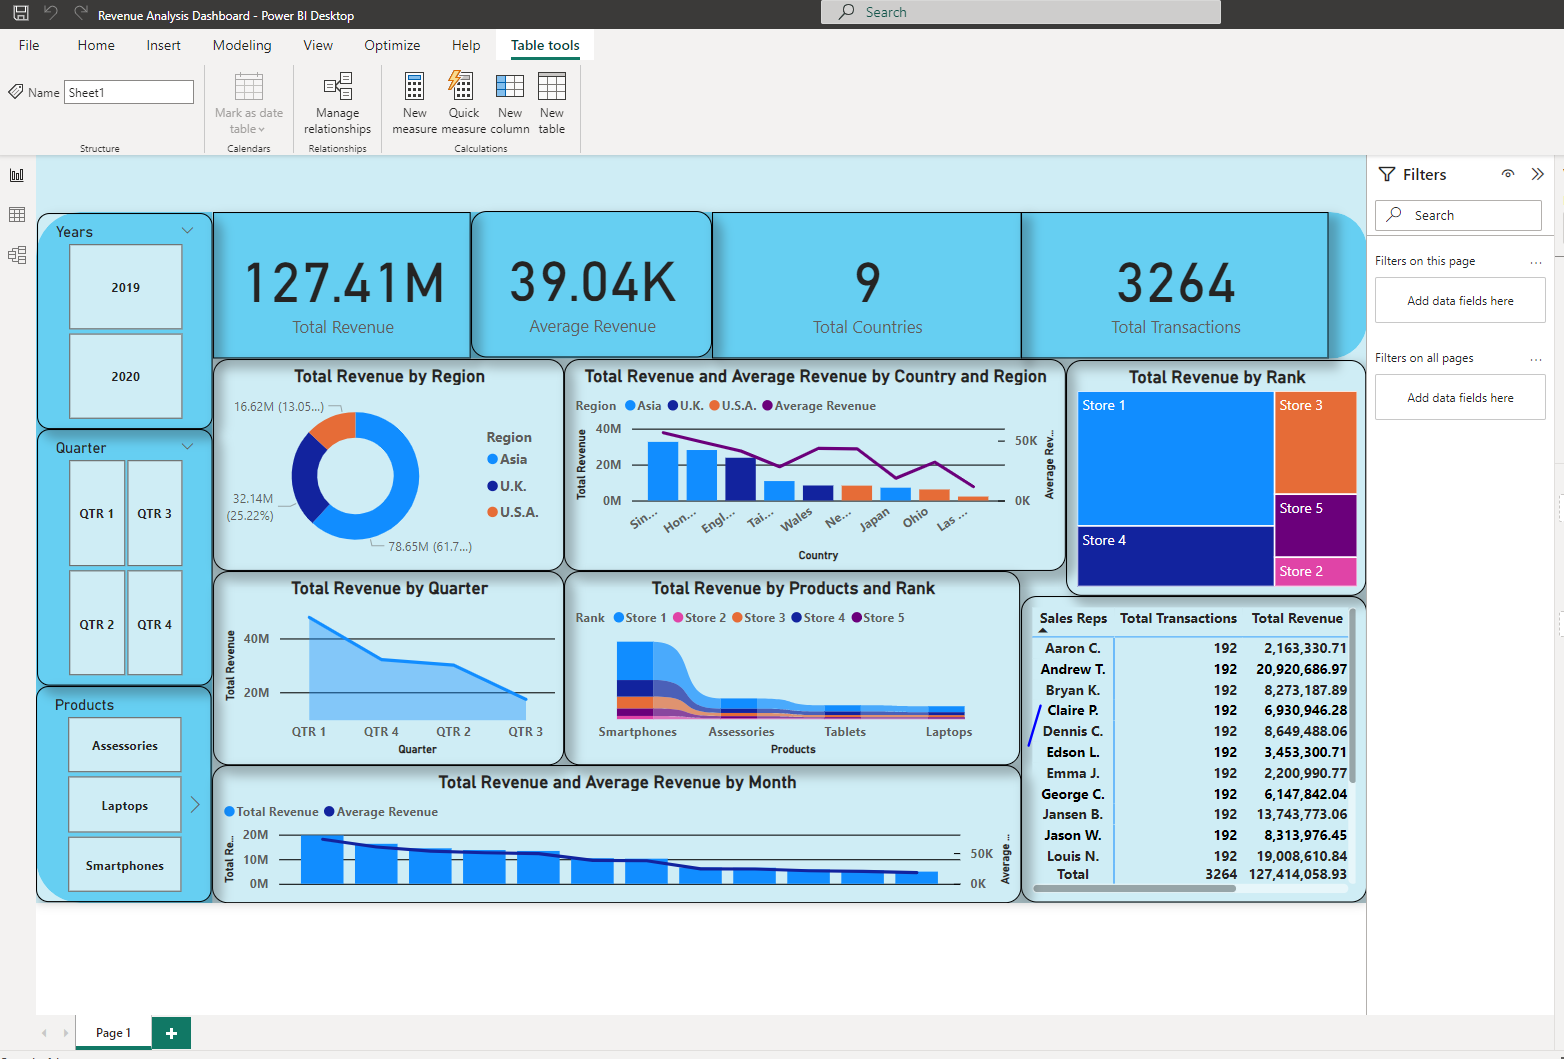

Layout of this report page (visuals, bound fields, positions):
{"tool":"powerbi","page":{"name":"Page 1","canvas":[1280,720],"ordinal":0},"visuals":[{"type":"shape","box":[0,54.8,170,665],"z":0},{"type":"shape","box":[170,54.8,1110.5,141.2],"z":1000},{"type":"card","fields":{"Values":["Measures (2).Total Revenue"]},"box":[170.2,54.9,248.4,141.4],"z":2000},{"type":"card","fields":{"Values":["Measures (2).Average Revenue"]},"box":[418.6,53.5,232,141.4],"z":3000},{"type":"card","fields":{"Values":["Measures (2).Total Countries"]},"box":[650.6,54.9,297.8,141.4],"z":4000},{"type":"card","fields":{"Values":["Measures (2).Total Transactions"]},"box":[948.4,54.9,296.5,141.4],"z":5000},{"type":"lineStackedColumnComboChart","fields":{"Category":["Sheet1.Country"],"Y":["Measures (2).Total Revenue"],"Y2":["Measures (2).Average Revenue"],"Series":["Sheet1.Region"]},"box":[508.4,196.1,482.7,204.2],"z":6000},{"type":"donutChart","fields":{"Y":["Measures (2).Total Revenue"],"Category":["Sheet1.Region"]},"box":[170.4,196.1,338.1,204.2],"z":7000},{"type":"treemap","fields":{"Values":["Measures (2).Total Revenue"],"Group":["Sheet1.Rank"]},"box":[991.2,197.4,289.4,227.2],"z":8000},{"type":"areaChart","fields":{"Y":["Measures (2).Total Revenue"],"Category":["Sheet1.Quarter"]},"box":[170.4,400.3,338.1,186.6],"z":9000},{"type":"ribbonChart","fields":{"Category":["Sheet1.Products"],"Y":["Measures (2).Total Revenue"],"Series":["Sheet1.Rank"]},"box":[508.4,400.3,439.5,186.6],"z":10000},{"type":"pivotTable","fields":{"Rows":["Sheet1.Sales Reps"],"Values":["Measures (2).Total Transactions","Measures (2).Total Revenue","Measures (2).Average Revenue"]},"box":[947.9,424.6,332.6,294.8],"z":11000},{"type":"lineStackedColumnComboChart","fields":{"Category":["Sheet1.Month"],"Y":["Measures (2).Total Revenue"],"Y2":["Measures (2).Average Revenue"]},"box":[169,586.9,778.9,132.5],"z":12000},{"type":"slicer","fields":{"Values":["Sheet1.Years"]},"box":[1.4,55.4,169,208.2],"z":13000},{"type":"slicer","fields":{"Values":["Sheet1.Quarter"]},"box":[1.4,263.7,169,247.5],"z":14000},{"type":"slicer","fields":{"Values":["Sheet1.Products"]},"box":[0,511.1,169,208.2],"z":15000}]}

Visuals, with their boxes on the page's 1280x720 design canvas (x1, y1, x2, y2). These are canvas units, not pixel positions in the 1564x1059 screenshot, which may show the page scaled, cropped or inside an application window:
shape: (x1=0, y1=55, x2=170, y2=720)
shape: (x1=170, y1=55, x2=1280, y2=196)
card - Measures (2).Total Revenue: (x1=170, y1=55, x2=419, y2=196)
card - Measures (2).Average Revenue: (x1=419, y1=54, x2=651, y2=195)
card - Measures (2).Total Countries: (x1=651, y1=55, x2=948, y2=196)
card - Measures (2).Total Transactions: (x1=948, y1=55, x2=1245, y2=196)
lineStackedColumnComboChart - Sheet1.Country x Measures (2).Total Revenue: (x1=508, y1=196, x2=991, y2=400)
donutChart - Measures (2).Total Revenue x Sheet1.Region: (x1=170, y1=196, x2=508, y2=400)
treemap - Measures (2).Total Revenue x Sheet1.Rank: (x1=991, y1=197, x2=1281, y2=425)
areaChart - Measures (2).Total Revenue x Sheet1.Quarter: (x1=170, y1=400, x2=508, y2=587)
ribbonChart - Sheet1.Products x Measures (2).Total Revenue: (x1=508, y1=400, x2=948, y2=587)
pivotTable - Sheet1.Sales Reps x Measures (2).Total Transactions: (x1=948, y1=425, x2=1280, y2=719)
lineStackedColumnComboChart - Sheet1.Month x Measures (2).Total Revenue: (x1=169, y1=587, x2=948, y2=719)
slicer - Sheet1.Years: (x1=1, y1=55, x2=170, y2=264)
slicer - Sheet1.Quarter: (x1=1, y1=264, x2=170, y2=511)
slicer - Sheet1.Products: (x1=0, y1=511, x2=169, y2=719)
